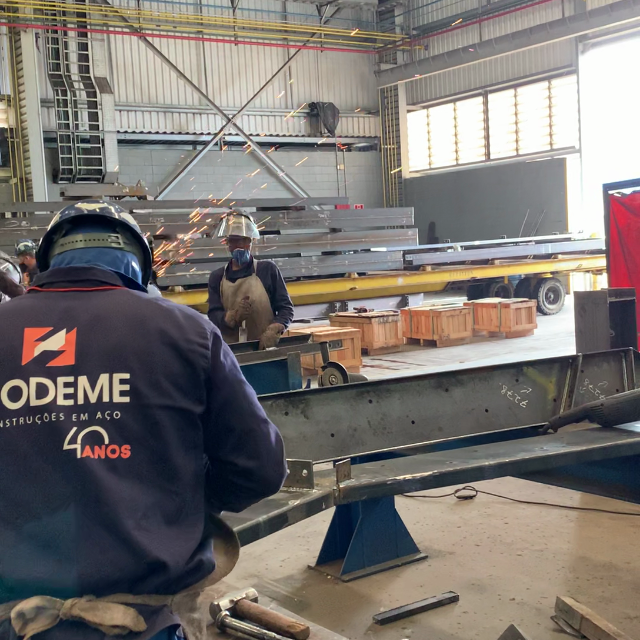face-shield: (215, 217, 262, 241)
glove: (257, 324, 287, 350), (223, 307, 244, 329)
helmet: (32, 198, 153, 281)
person: (1, 197, 292, 636), (203, 210, 295, 357)
